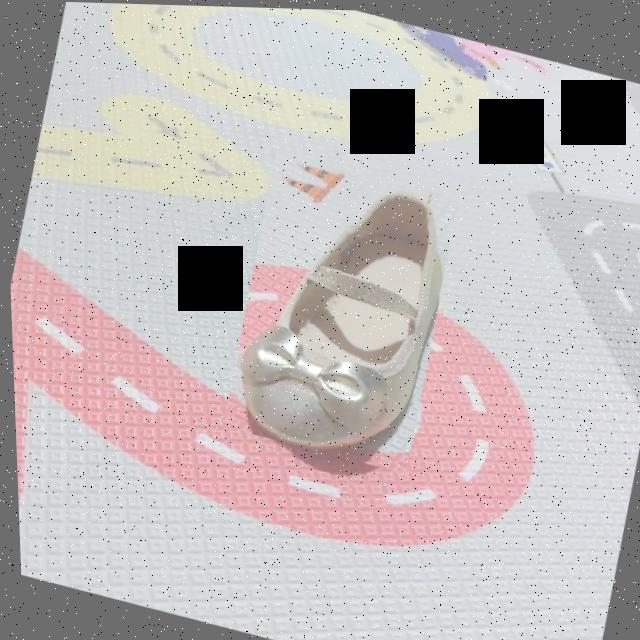shoe: (210, 148, 465, 473)
